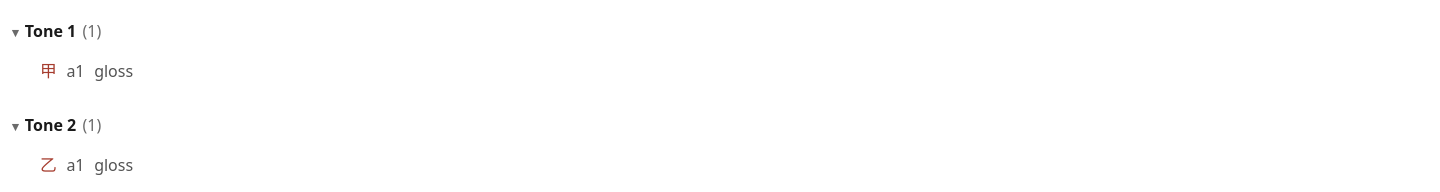
EntryTree › hides a group's entries once its header is clicked
Step 1. Click the button "▾ Tone 1 (1)" → (50, 31), box [8,12,1432,50]
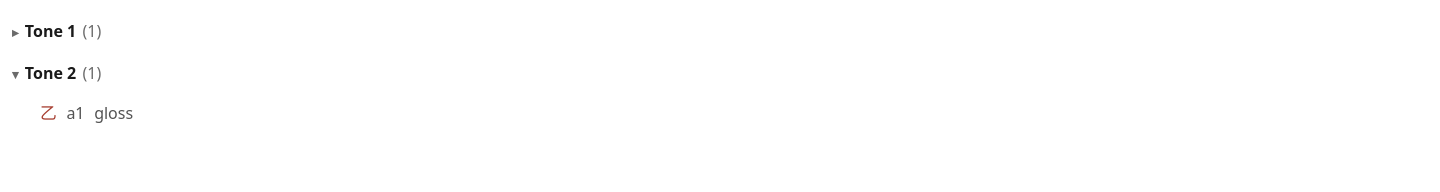
Expected: the text "乙" is shown, [40,100,57,124]
Expected: the button "甲" is gone
